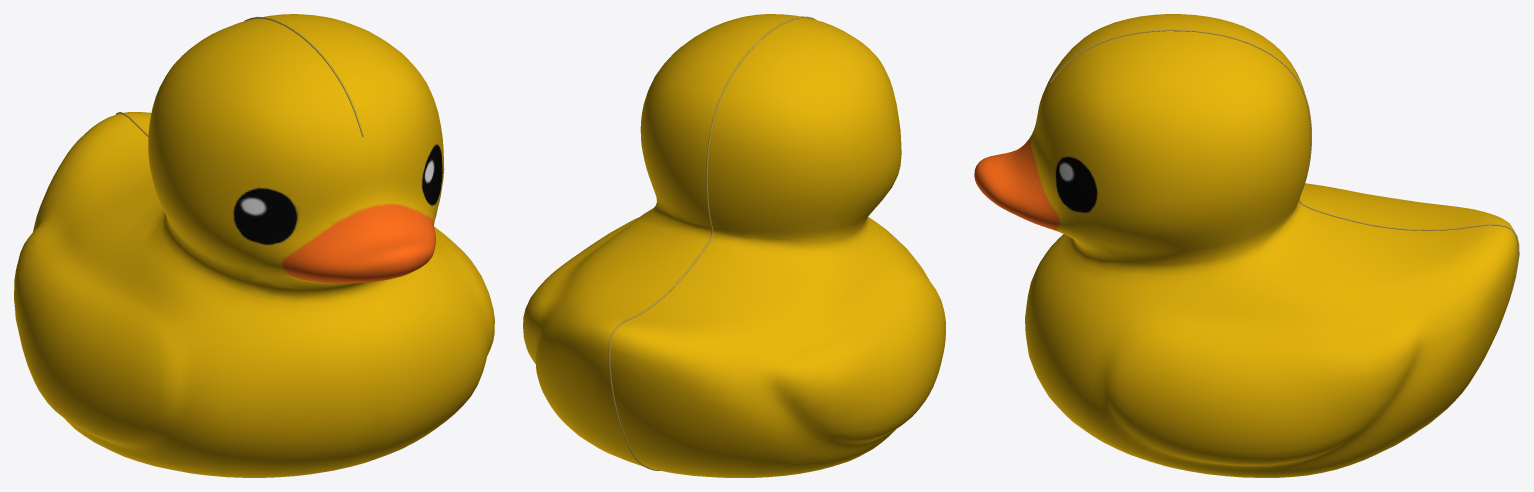
Rendered from aged_duck.gltf.
3 renders of one model, left to right at view 1: azimuth 30°, elevation 25°; view 2: azimuth 150°, elevation 25°; view 3: azimuth 270°, elevation 25°, orthographic. The views are drawn at different scales.
Visible parts, largest first — view 1: DuckBody, MouldSeam; view 2: DuckBody, MouldSeam; view 3: DuckBody, MouldSeam.
Part boxes in pixels (x1,y1,x2,y2): DuckBody: (14, 14, 494, 477); MouldSeam: (116, 16, 364, 137); DuckBody: (523, 14, 945, 477); MouldSeam: (608, 16, 815, 470); DuckBody: (974, 14, 1517, 477); MouldSeam: (1050, 29, 1519, 303).
Bounding box in the file's own units: 0.0961 × 0.0939 × 0.1199.
Materials: 3 (2 with a texture image).
